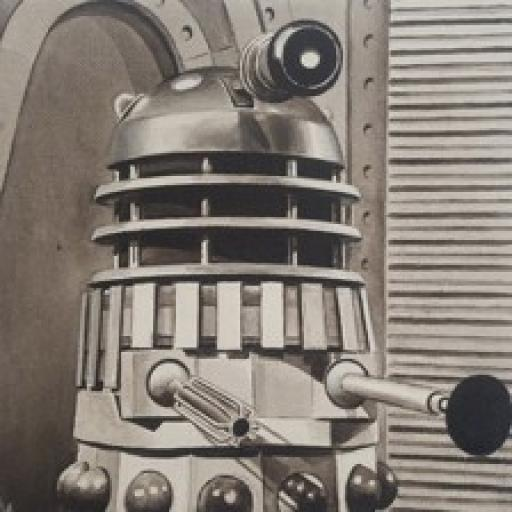dalek: (48, 16, 512, 512)
